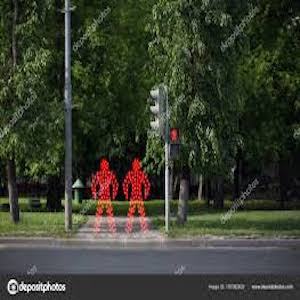red: (91, 152, 156, 236)
